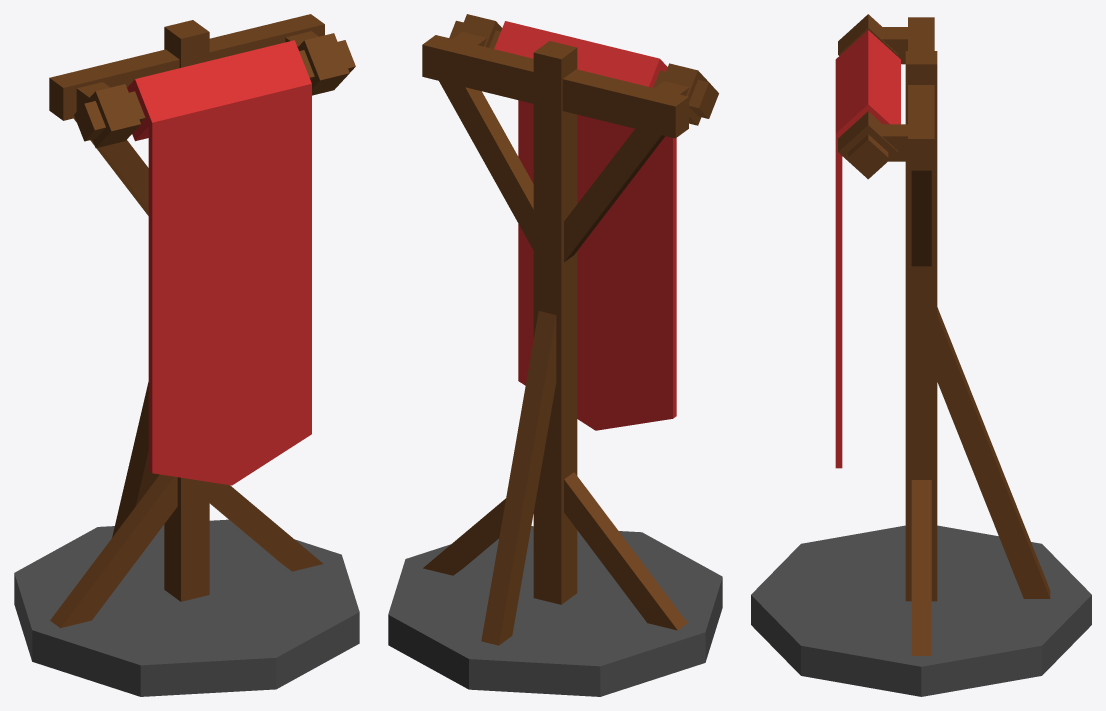
The model's file is flag.fbx.
3 renders of one model, left to right at view 1: azimuth 30°, elevation 25°; view 2: azimuth 150°, elevation 25°; view 3: azimuth 270°, elevation 25°, orthographic. The views are drawn at different scales.
Visible parts, largest first — view 1: Flag; view 2: Flag; view 3: Flag.
Boxes of the visible parts, x1,y1,x2,y2 form: Flag: (14,14,359,696); Flag: (388,14,722,696); Flag: (751,14,1091,696).
Bounding box in the file's own units: 2.05 × 3.76 × 2.05.
